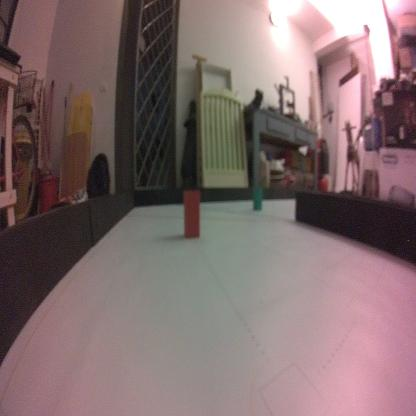green: (252, 186, 262, 212)
red: (182, 188, 202, 242)
